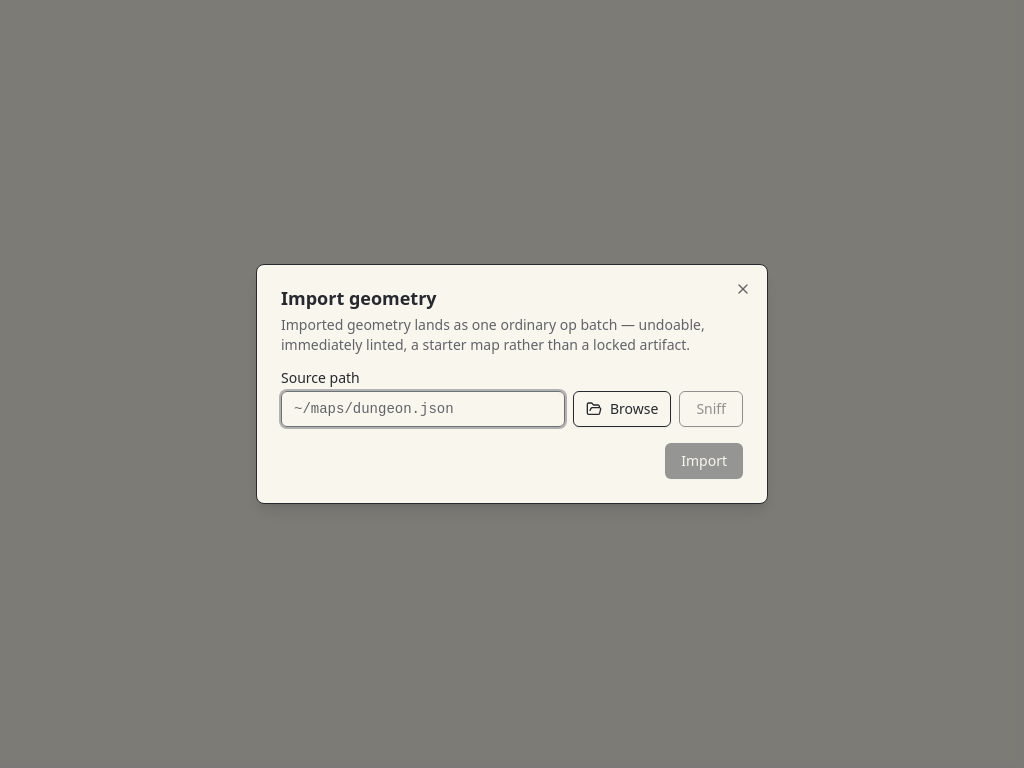
Test: the adoption controls appear only for fields the source carries and differs on
The image size is (1024, 768).
In the field labelled "Source path": (423, 409) [281,391,565,427], type "/tmp/source"
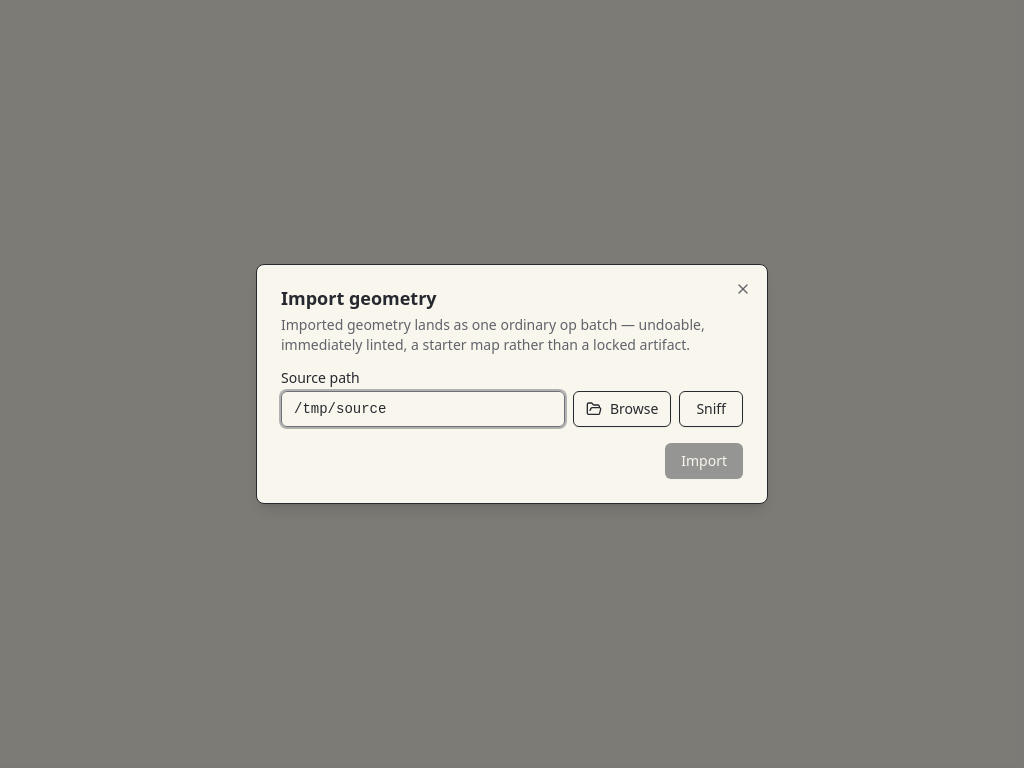
Click the button "Sniff": (711, 409) [679,391,743,427]
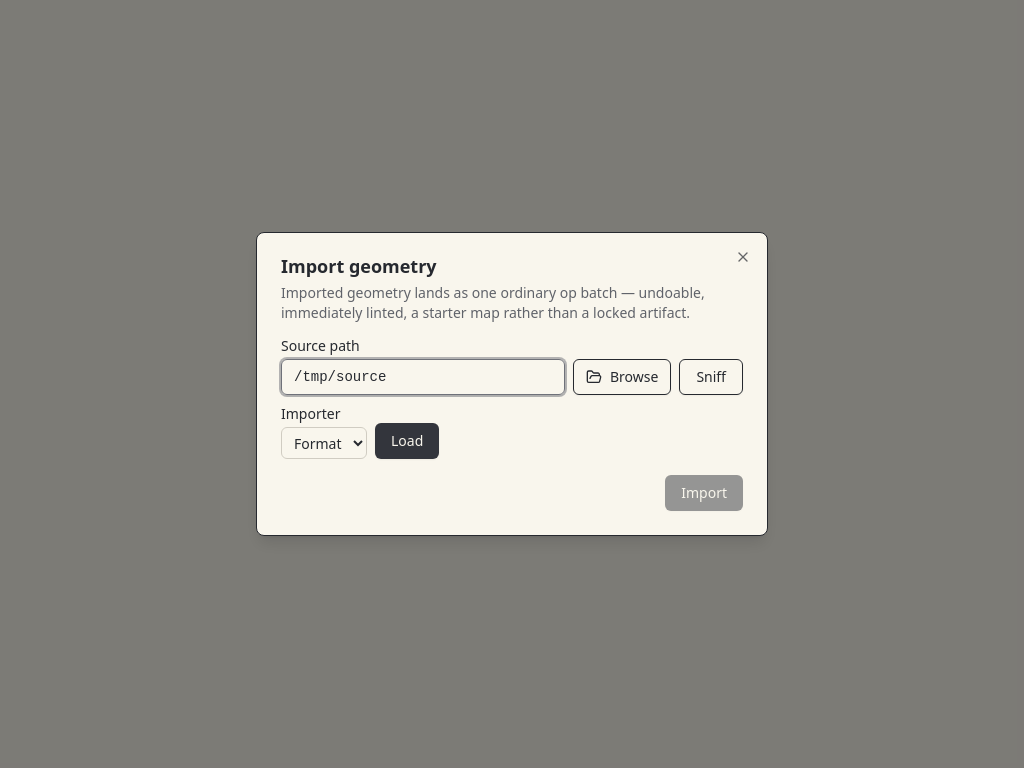
Result: the button "Load" is shown
Click the button "Load": (407, 441) [375,423,439,459]
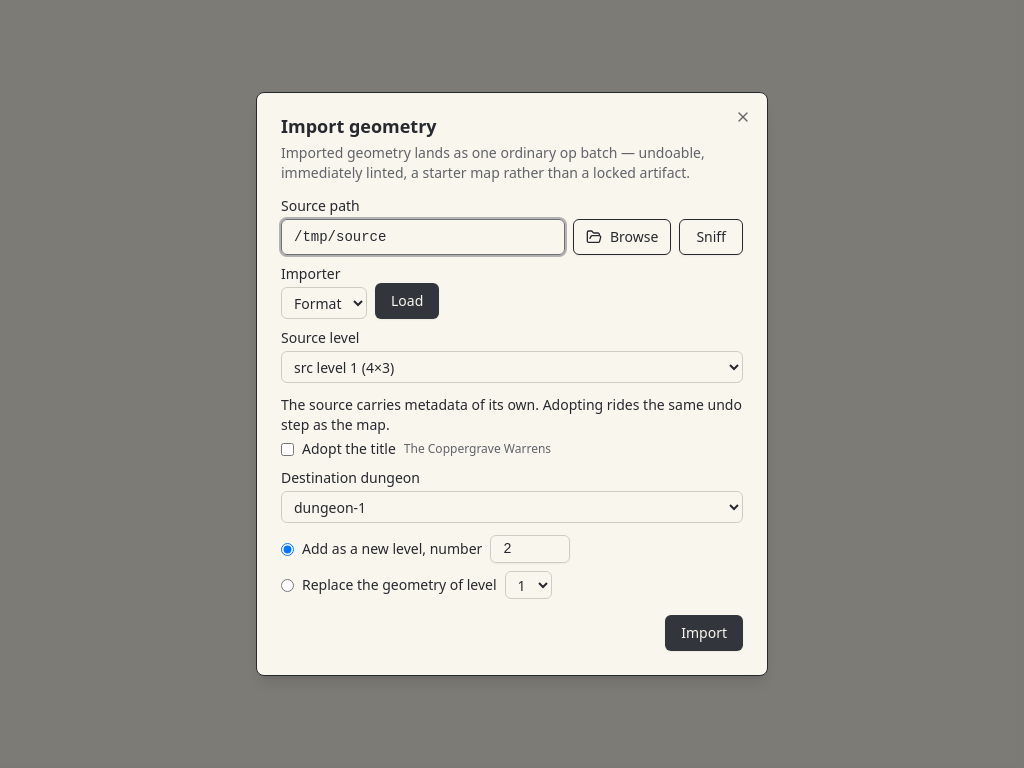
Result: the dropdown labelled "Source level" is shown at [281,351,743,383]
Result: the checkbox labelled "Adopt the title The Coppergrave Warrens" is not checked at [281,442,294,456]
